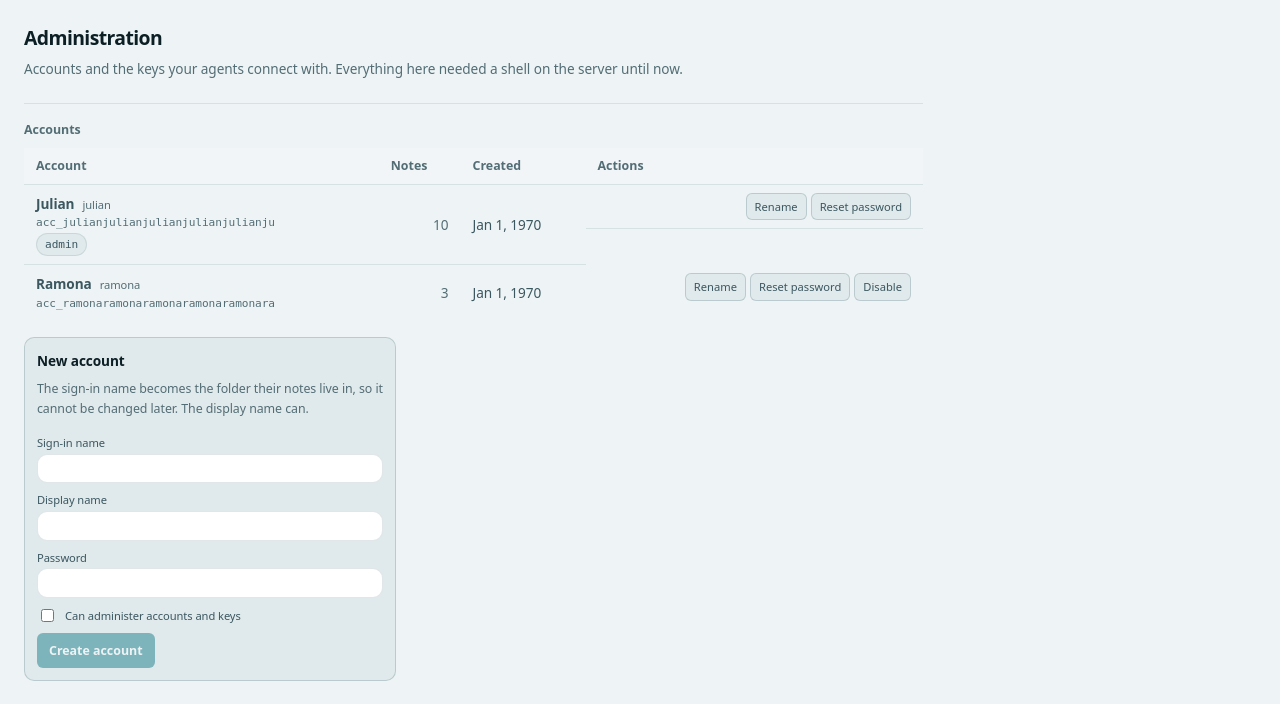
it: the control › offers nothing to save until the name is actually different
Click the button "Rename" in the row of "acc_ramonaramonaramonaramonaramonara" at (715, 287), box [685, 273, 746, 300]
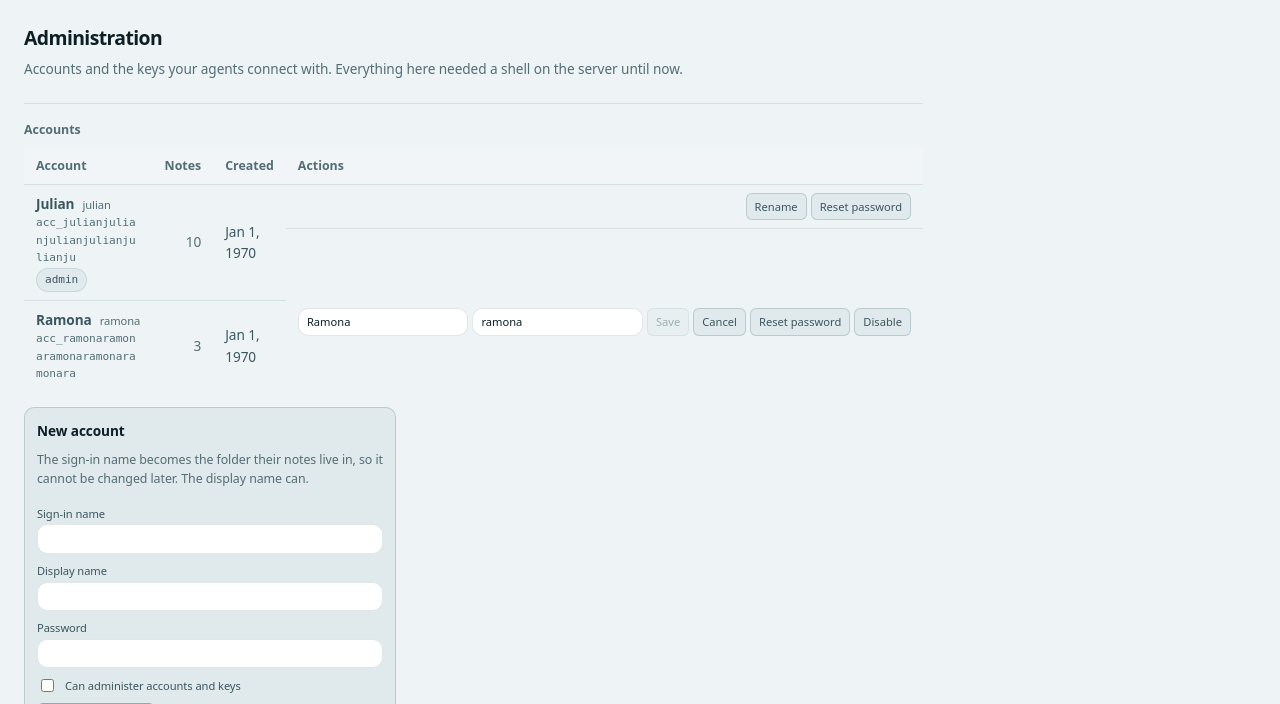
expect the button "Save" is disabled: met, box [647, 308, 689, 336]
Type " Bachmann" into the field named "Display name for ramona" at (383, 322), box [298, 308, 468, 336]
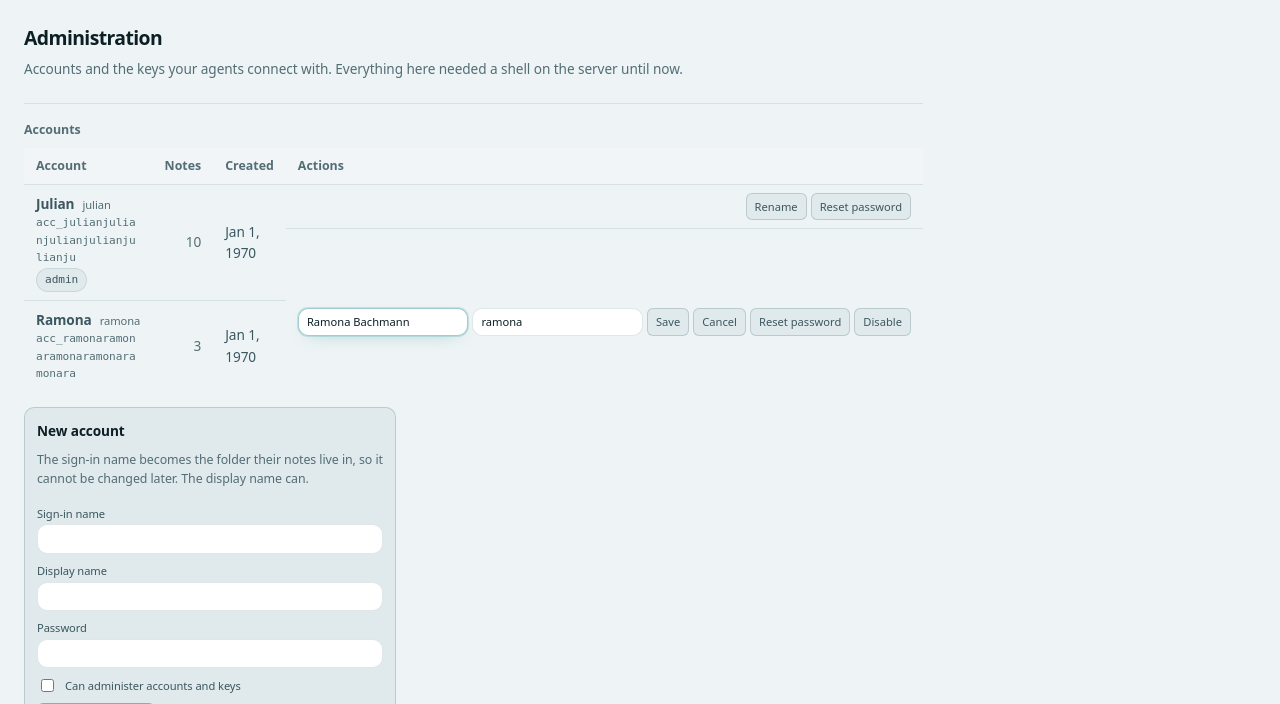
expect the button "Save" is enabled: met, box [647, 308, 689, 336]
